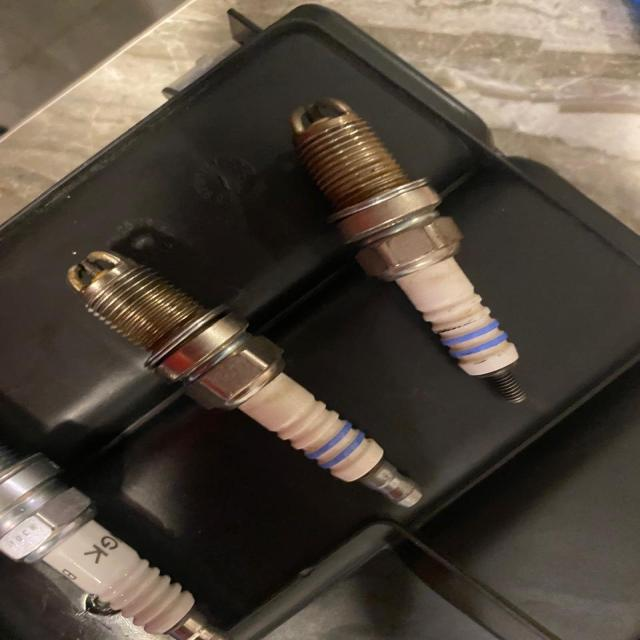spark-plug: (47, 225, 450, 525), (264, 78, 551, 417)
